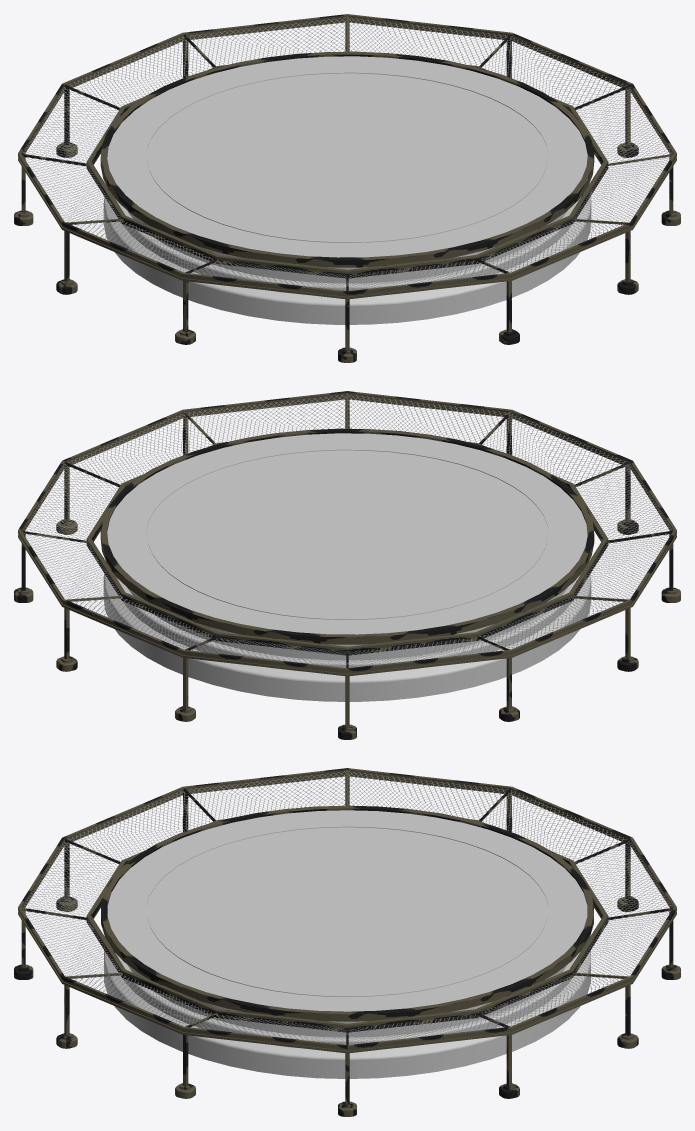
3 renders of one model, top to bottom at view 1: azimuth 30°, elevation 25°; view 2: azimuth 150°, elevation 25°; view 3: azimuth 270°, elevation 25°, orthographic.
Visible parts, largest first — view 1: Null; view 2: Null; view 3: Null.
Boxes of the visible parts, x1,y1,x2,y2 form: Null: (14,14,680,362); Null: (14,391,680,739); Null: (14,768,680,1116).
Size of the model in its own units: 27.72 by 3.15 by 27.72.
